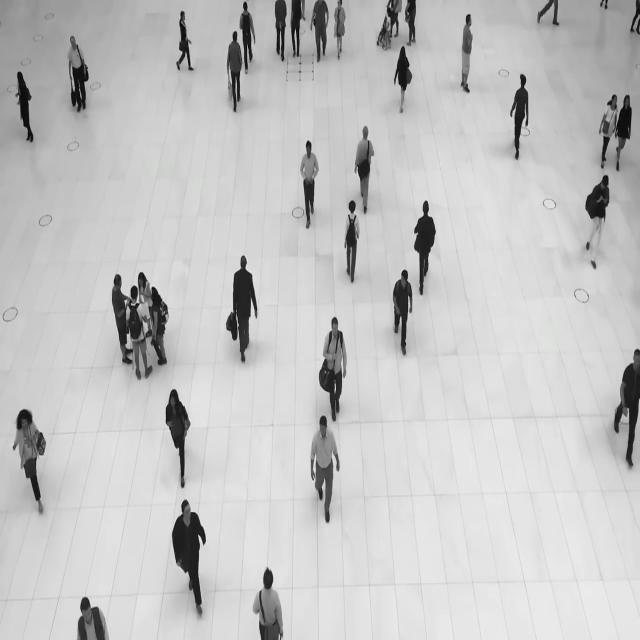Persona: (6, 400, 52, 524), (167, 494, 211, 622), (224, 252, 261, 370), (307, 412, 343, 529), (610, 336, 640, 474), (317, 308, 352, 417), (160, 387, 196, 492), (582, 168, 614, 278), (249, 558, 290, 640), (412, 190, 440, 302), (295, 128, 322, 235), (387, 263, 417, 356), (64, 27, 94, 118), (127, 280, 153, 384), (506, 65, 532, 168), (12, 66, 40, 154), (339, 197, 365, 290), (106, 264, 130, 364), (72, 587, 115, 640), (391, 42, 418, 126), (354, 122, 378, 214), (223, 27, 248, 115), (149, 277, 172, 372), (594, 87, 619, 171), (174, 5, 199, 84), (457, 6, 478, 100), (288, 0, 311, 71), (309, 0, 332, 69), (618, 84, 634, 180), (240, 0, 259, 73), (270, 0, 290, 69), (331, 0, 349, 60)
